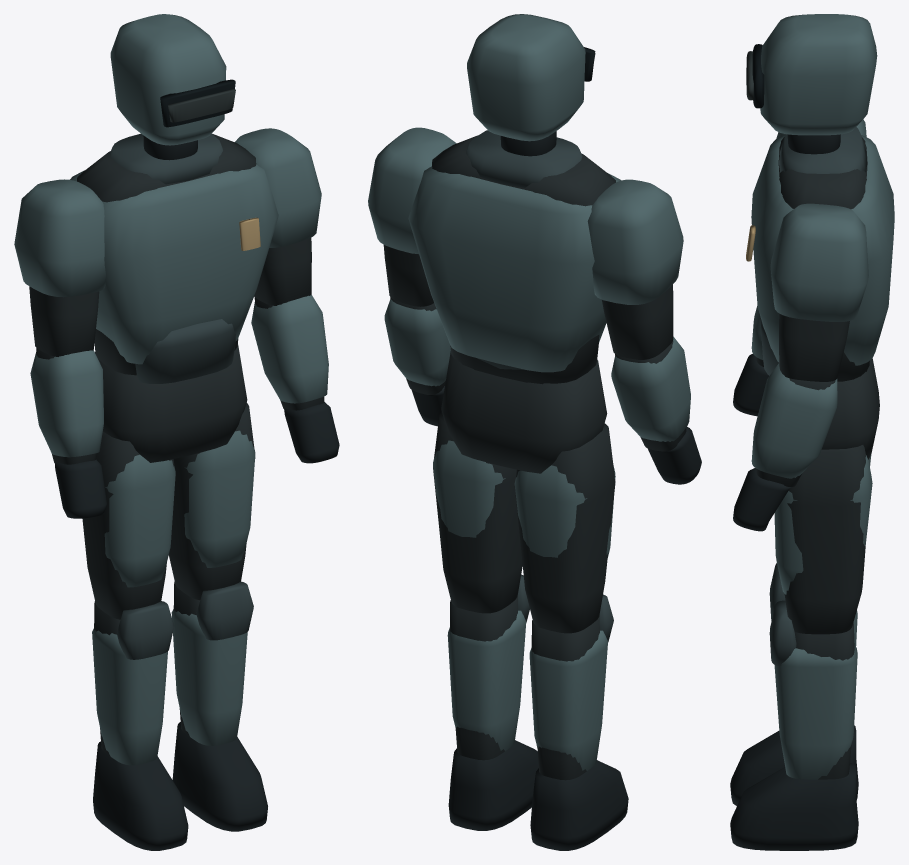
The model's file is enemy-slate.glb.
3 views of the same model, side by side, from view 1: azimuth 30°, elevation 25°; view 2: azimuth 150°, elevation 25°; view 3: azimuth 270°, elevation 25° (orthographic). The views are drawn at different scales.
Visible parts, largest first — view 1: Armored thorax, Pelvis, Helmet, Shoulder_L, Greave_L, Greave_R, ThighShell_L, ThighShell_R, Boot_L, Boot_R, Bracer_L, Bracer_R (+16 smaller); view 2: Armored thorax, Pelvis, Helmet, ThighSuit_L, Shoulder_L, ThighSuit_R, Greave_L, Greave_R, Boot_L, Boot_R, Undersuit, Shoulder_R (+13 smaller); view 3: Helmet, ThighSuit_R, Armored thorax, Shoulder_R, Greave_R, Boot_R, Bracer_R, UpperArmSuit_R, Undersuit, Pelvis, ThighShell_R, Collar (+12 smaller).
Part boxes in pixels (x1,y1,x2,y2): Armored thorax: (70, 164, 278, 364); Pelvis: (95, 344, 247, 462); Helmet: (110, 14, 226, 145); Shoulder_L: (14, 179, 105, 297); Greave_L: (92, 628, 167, 765); Greave_R: (171, 609, 247, 745); ThighShell_L: (104, 454, 175, 587); ThighShell_R: (184, 430, 255, 567); Boot_L: (93, 741, 188, 850); Boot_R: (172, 722, 267, 831); Bracer_L: (30, 350, 103, 457); Bracer_R: (251, 295, 328, 403); Armored thorax: (408, 166, 620, 372); Pelvis: (441, 351, 607, 473); Helmet: (467, 14, 585, 141); ThighSuit_L: (514, 423, 615, 633); Shoulder_L: (587, 179, 683, 304); ThighSuit_R: (433, 411, 522, 613); Greave_L: (529, 630, 607, 770); Greave_R: (447, 610, 526, 750); Boot_L: (530, 760, 628, 850); Boot_R: (448, 740, 538, 830); Undersuit: (432, 135, 615, 384); Shoulder_R: (368, 127, 456, 254); Helmet: (760, 14, 877, 135); ThighSuit_R: (784, 445, 865, 634); Armored thorax: (751, 135, 894, 365); Shoulder_R: (770, 203, 868, 321); Greave_R: (774, 645, 857, 779); Boot_R: (730, 762, 858, 850); Bracer_R: (751, 363, 837, 478); UpperArmSuit_R: (779, 313, 849, 381); Undersuit: (778, 137, 869, 381); Pelvis: (821, 358, 879, 459); ThighShell_R: (774, 455, 872, 594); Collar: (779, 127, 867, 173).
Size of the model in its own units: 0.6754 by 1.77 by 0.333.
